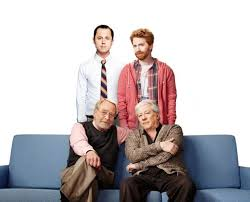Bad: (61, 99, 197, 202), (118, 27, 197, 202), (60, 25, 120, 202), (76, 24, 177, 89)
